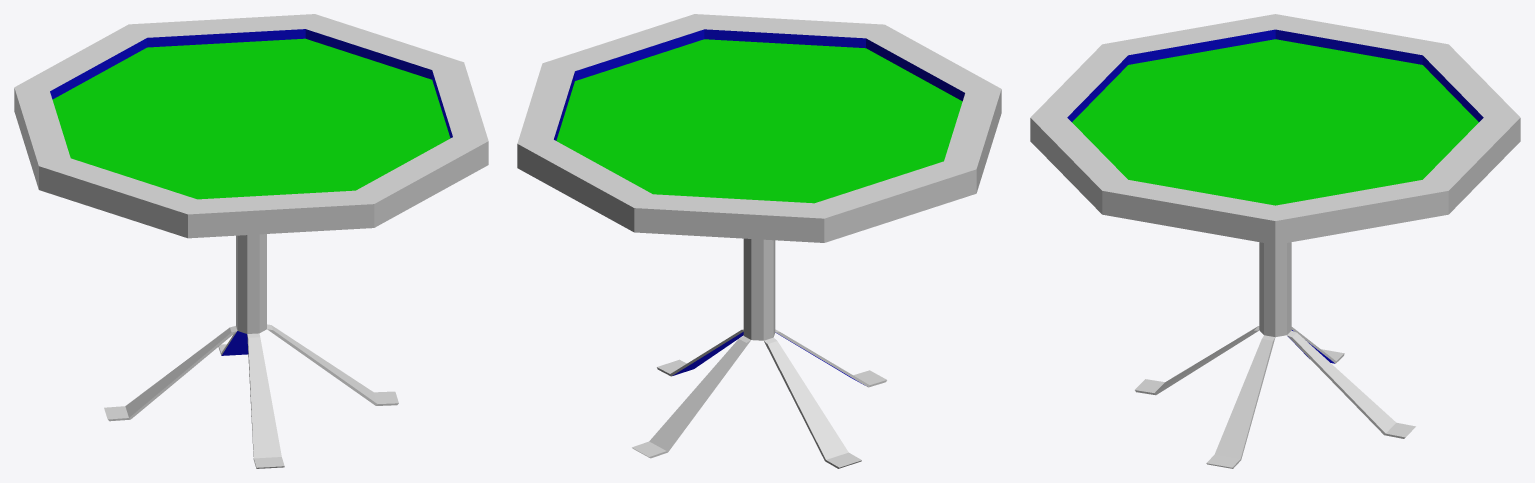
File: mesita.fbx
3 views of the same model, side by side, from view 1: azimuth 30°, elevation 25°; view 2: azimuth 150°, elevation 25°; view 3: azimuth 270°, elevation 25° (orthographic). The views are drawn at different scales.
Parts seen in each view (by area): view 1: Cylinder; view 2: Cylinder; view 3: Cylinder.
Part boxes in pixels (x1,y1,x2,y2): Cylinder: (14,14,488,468); Cylinder: (517,14,1001,468); Cylinder: (1030,14,1520,468).
Bounding box in the file's own units: 0.9395 × 0.6188 × 0.9395.
